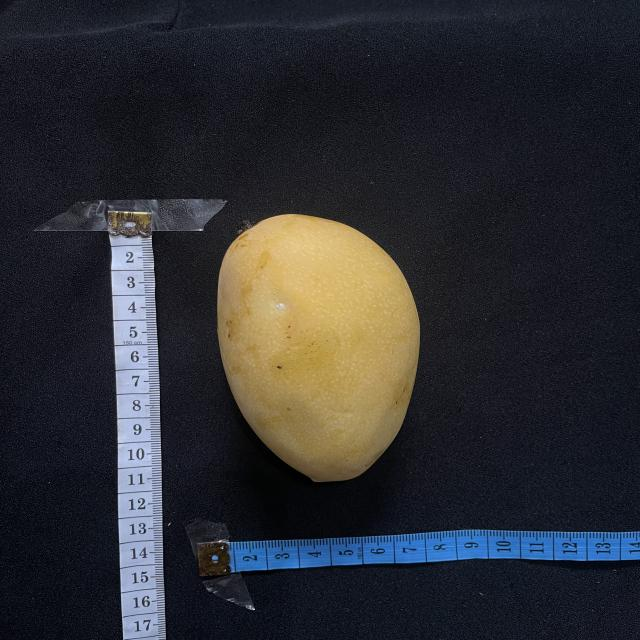Ripe: (217, 214, 419, 481)
